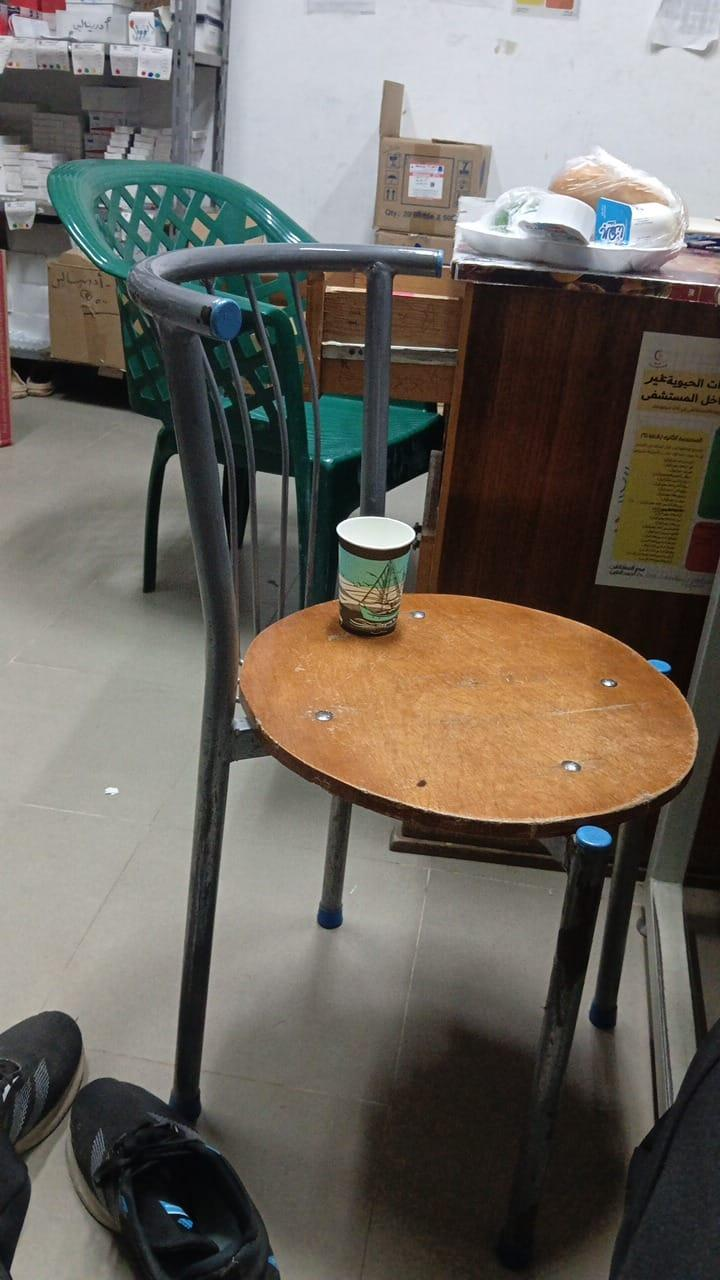cup: (337, 516, 415, 635)
